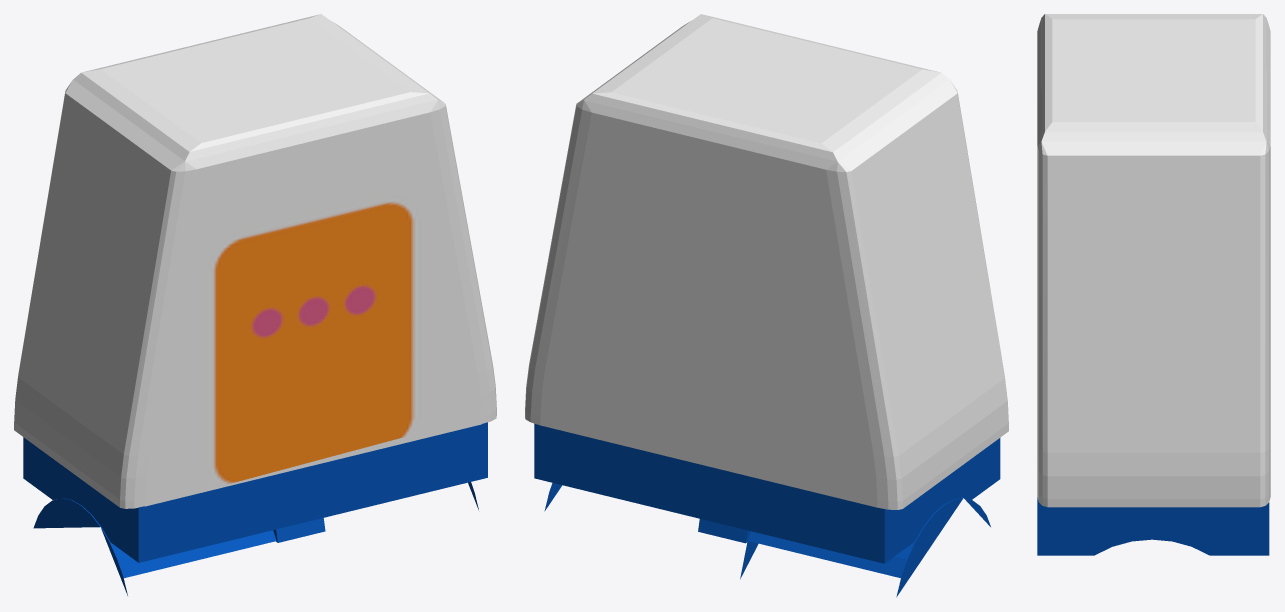
File: torso.glb
3 renders of one model, left to right at view 1: azimuth 30°, elevation 25°; view 2: azimuth 150°, elevation 25°; view 3: azimuth 270°, elevation 25°, orthographic.
Visible parts, largest first — view 1: baker_torso; view 2: baker_torso; view 3: baker_torso.
Part boxes in pixels (<box>): baker_torso: <box>14,14,496,595</box>; baker_torso: <box>525,14,1008,597</box>; baker_torso: <box>1037,14,1270,555</box>.
Size of the model in its own units: 0.6858 by 0.7937 by 0.3654.
3 materials, 1 textured.
